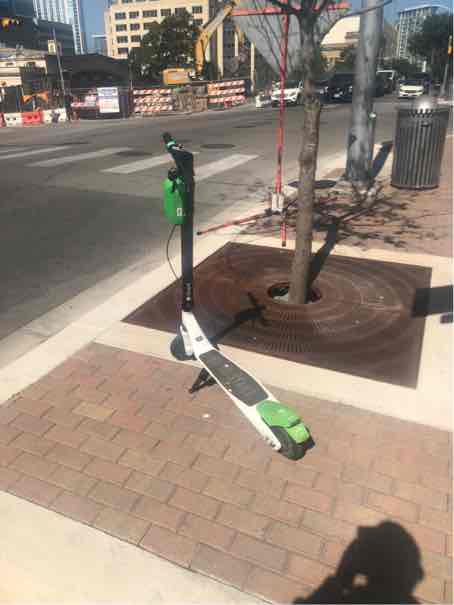scooter: (146, 120, 322, 466)
